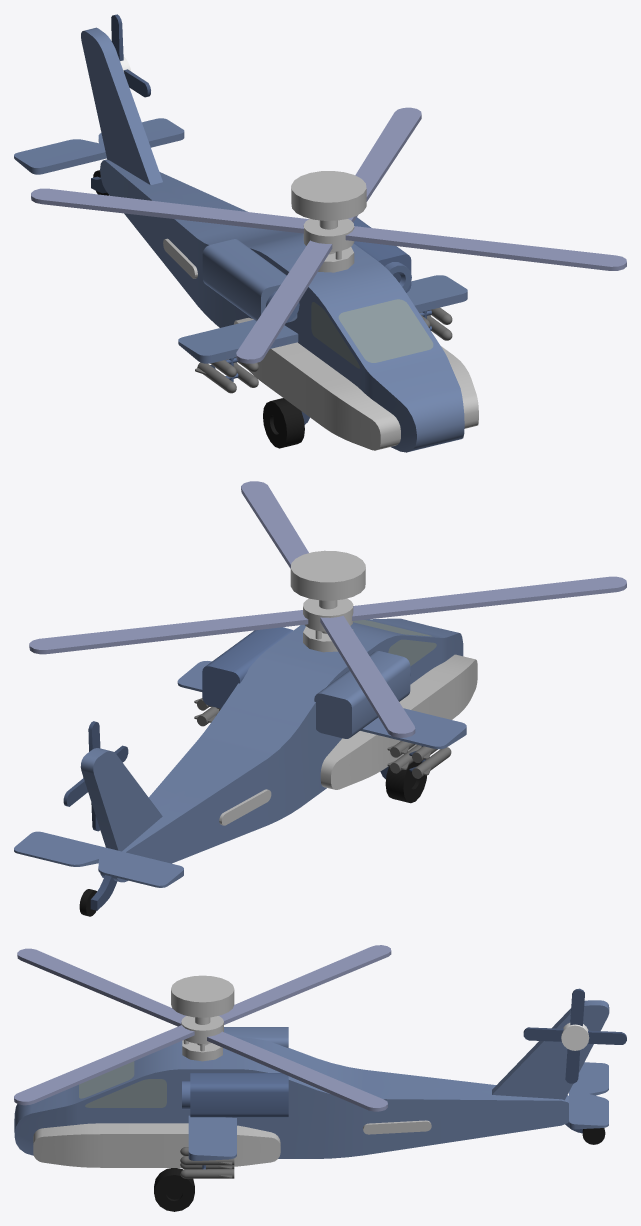
File: Truc thang.fbx
3 renders of one model, top to bottom at view 1: azimuth 30°, elevation 25°; view 2: azimuth 150°, elevation 25°; view 3: azimuth 270°, elevation 25°, orthographic. The views are drawn at different scales.
Parts seen in each view (by area): view 1: Truc_Thang, Canh_to, Canh_be; view 2: Truc_Thang, Canh_to, Canh_be; view 3: Truc_Thang, Canh_to, Canh_be.
Boxes of the visible parts, x1,y1,x2,y2 form: Truc_Thang: [14, 27, 478, 452]; Canh_to: [31, 107, 626, 363]; Canh_be: [111, 14, 150, 97]; Truc_Thang: [14, 618, 477, 916]; Canh_to: [29, 481, 626, 737]; Canh_be: [63, 721, 128, 831]; Truc_Thang: [14, 1000, 609, 1211]; Canh_to: [14, 945, 391, 1111]; Canh_be: [523, 988, 626, 1083].
Bounding box in the file's own units: 668 × 387 × 1086.
Materials: 1 (1 with a texture image).
